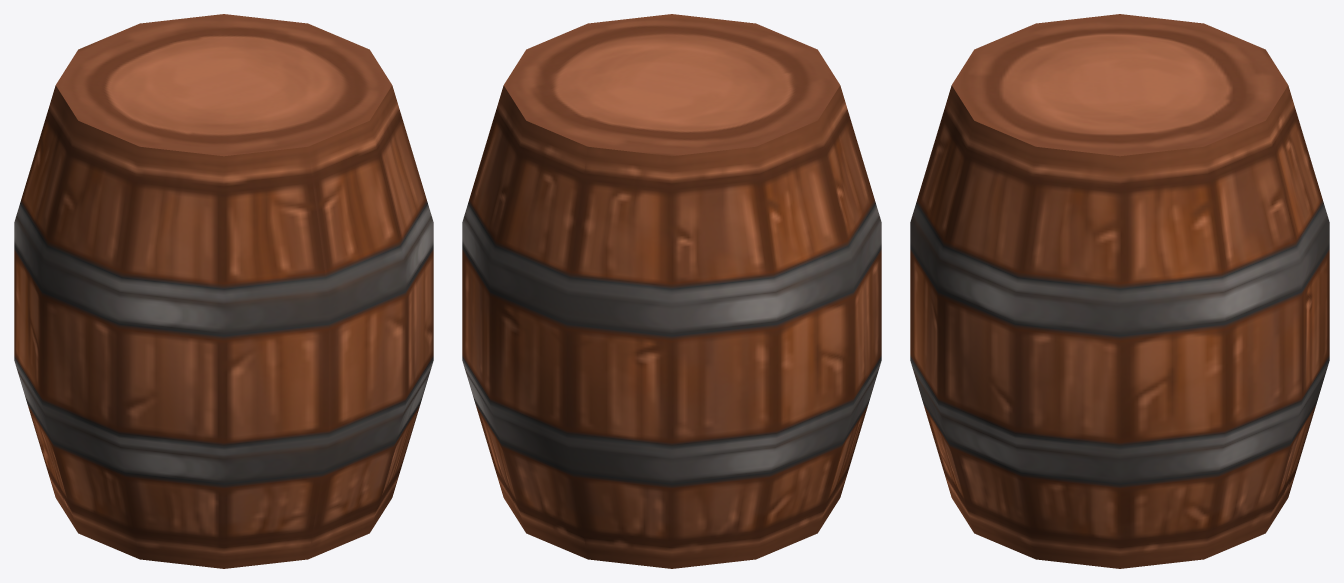
The model's file is barrel.FBX.
3 renders of one model, left to right at view 1: azimuth 30°, elevation 25°; view 2: azimuth 150°, elevation 25°; view 3: azimuth 270°, elevation 25°, orthographic.
Parts seen in each view (by area): view 1: barrel; view 2: barrel; view 3: barrel.
Part boxes in pixels (x1,y1,x2,y2): barrel: (14, 14, 433, 568); barrel: (462, 14, 881, 568); barrel: (910, 14, 1329, 568).
Size of the model in its own units: 246 by 267 by 246.
1 material, 1 textured.
